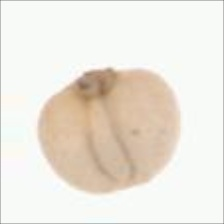L5: (81, 92, 136, 186), (68, 64, 122, 102), (101, 160, 157, 193)
L6: (35, 64, 183, 196)
